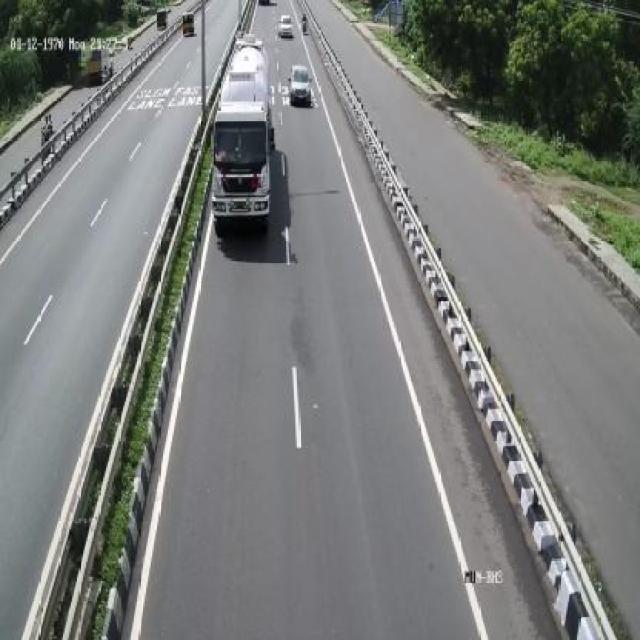car: (290, 58, 316, 111), (277, 3, 298, 43)
